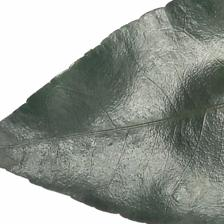healthy: (54, 60, 224, 201)
